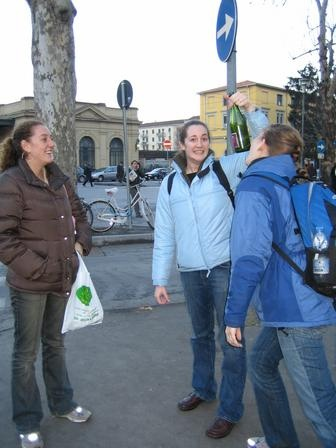head: (247, 122, 305, 167), (16, 120, 57, 166), (177, 119, 211, 161)
person: (216, 122, 336, 442), (1, 119, 96, 445), (152, 112, 242, 425), (127, 159, 144, 206), (80, 162, 93, 185)
